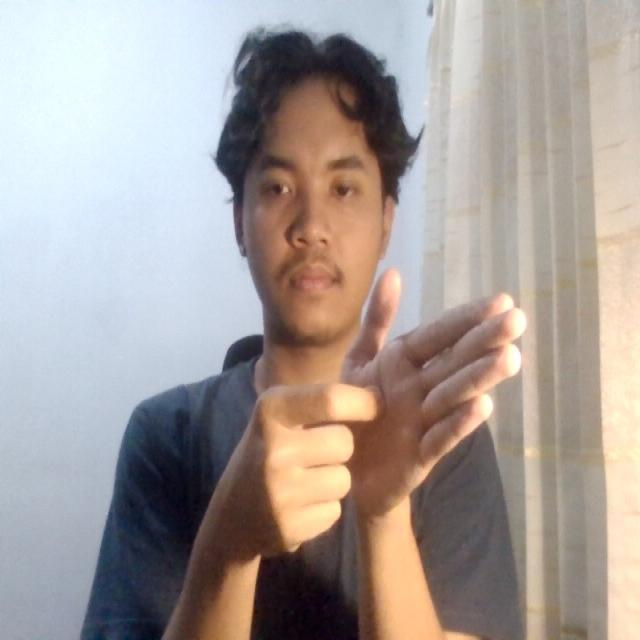L: (231, 250, 553, 554)
